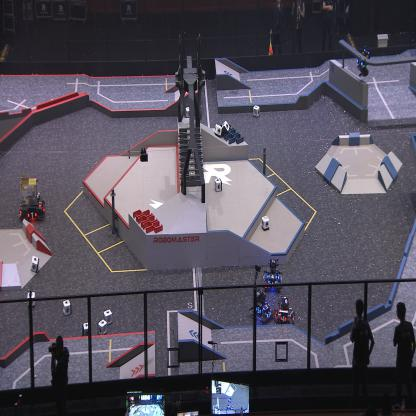car: (19, 174, 46, 221), (250, 288, 273, 325), (262, 258, 282, 290), (274, 296, 295, 326)
